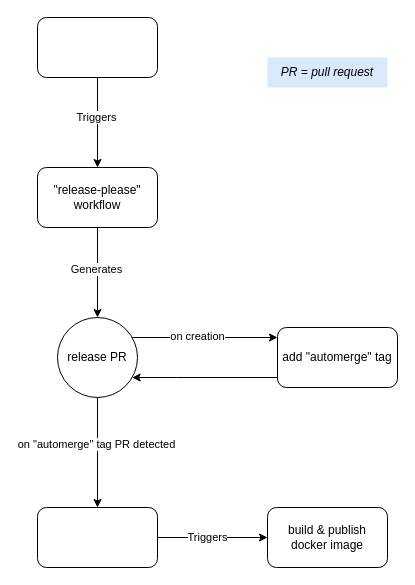
This 415x585 diagram has some shape labels left out. The centre of each missing label's shape, as x and y in pixels:
automerge-version-PR: the point at 97,537
new changes into "main" branch.: the point at 97,47
